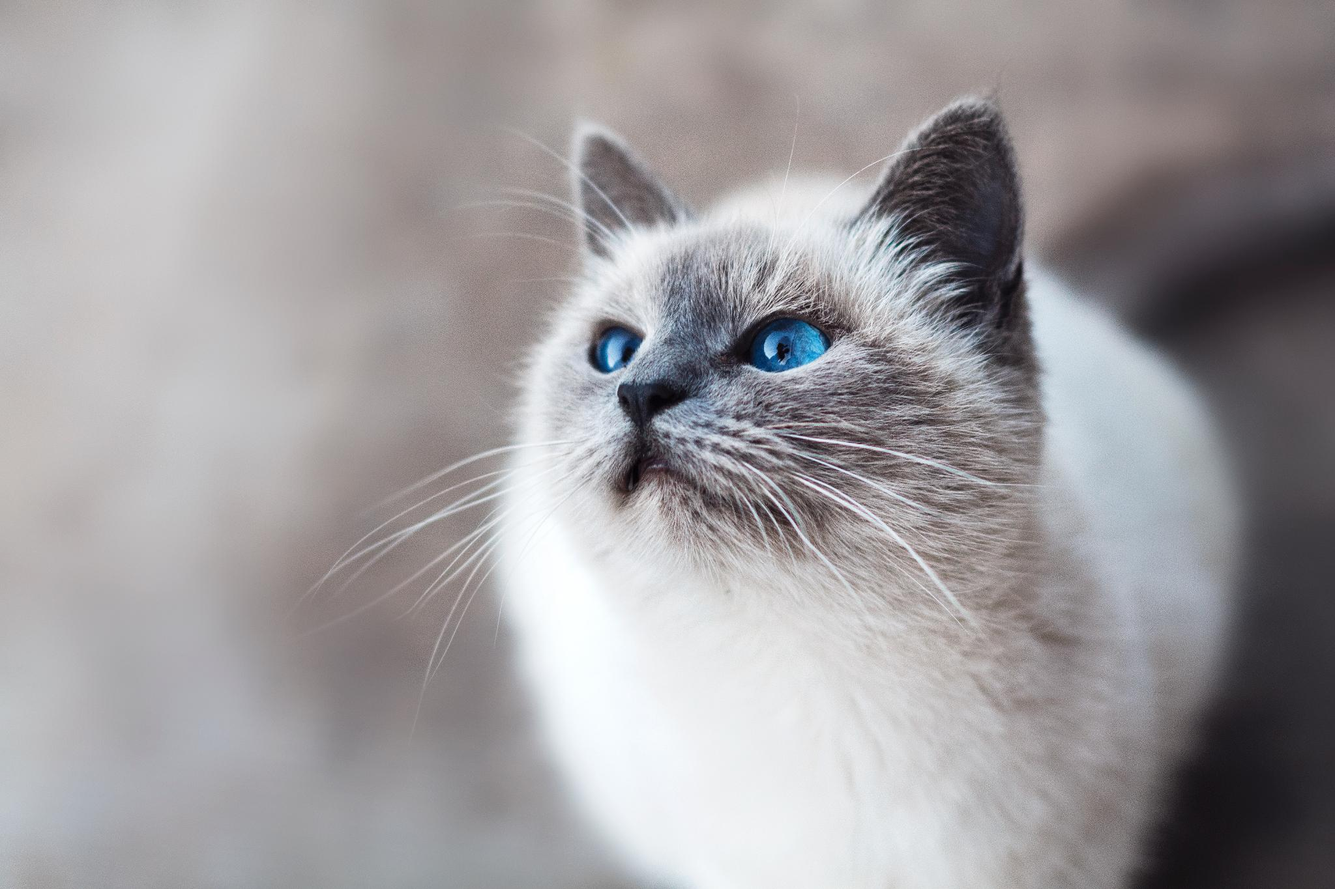cat: (293, 91, 1244, 887)
